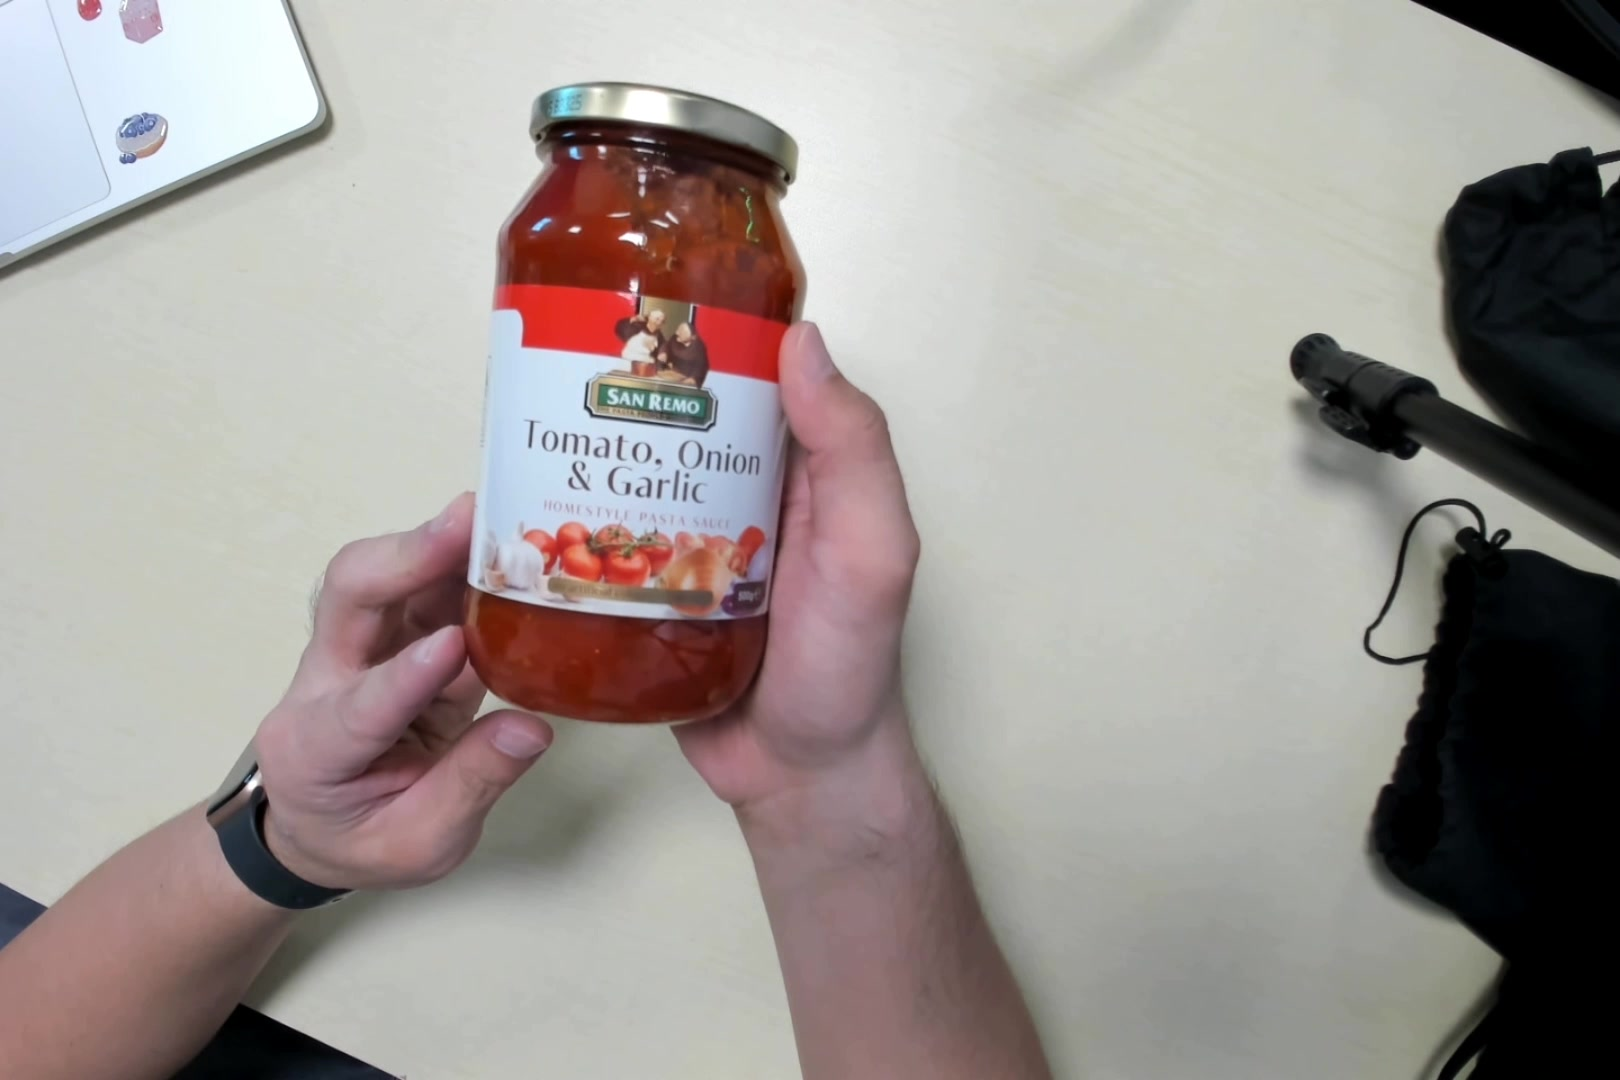PastaSauce_500-599g_NonHalal_NonHealthy: (470, 76, 802, 726)
